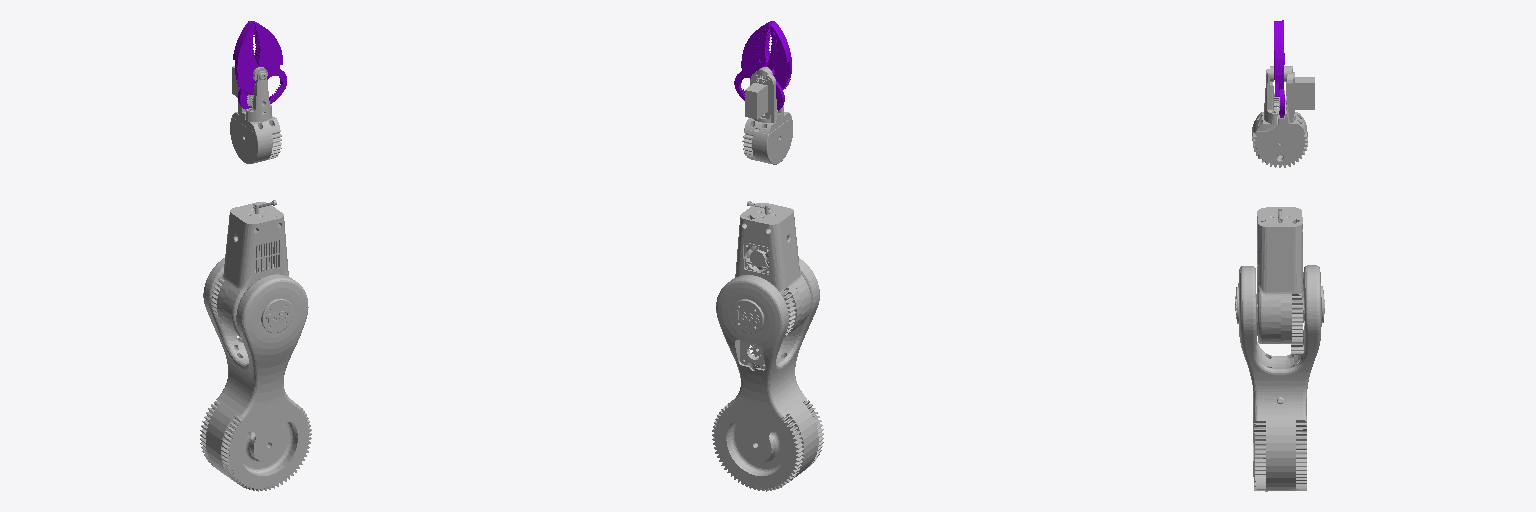
URDF robot description (arm10):
<?xml version="1.0" encoding="utf-8"?>
<!-- This URDF was automatically created by SolidWorks to URDF Exporter! Originally created by [author] ([email redacted]) 
     Commit Version: 1.6.0-4-g7f85cfe  Build Version: 1.6.7995.38578
     For more information, please see http://wiki.ros.org/sw_urdf_exporter -->
<robot
  name="arm10">
  <link
    name="base_link">
    <inertial>
      <origin
        xyz="0.0010410740969428 0.047873093808624 0.0583869216830032"
        rpy="0 0 0" />
      <mass
        value="13.648936476189" />
      <inertia
        ixx="0.189904315418796"
        ixy="-7.17740777543954E-07"
        ixz="1.34830740942066E-05"
        iyy="0.113308535920554"
        iyz="-1.86763580376425E-07"
        izz="0.276400463492036" />
    </inertial>
    <visual>
      <origin
        xyz="0 0 0"
        rpy="0 0 0" />
      <geometry>
        <mesh
          filename="package://arm10/meshes/base_link.STL" />
      </geometry>
      <material
        name="">
        <color
          rgba="0.796078431372549 0.545098039215686 0.141176470588235 1" />
      </material>
    </visual>
    <collision>
      <origin
        xyz="0 0 0"
        rpy="0 0 0" />
      <geometry>
        <mesh
          filename="package://arm10/meshes/base_link.STL" />
      </geometry>
    </collision>
  </link>
  <link
    name="link1">
    <inertial>
      <origin
        xyz="-9.48801988664861E-05 0.00174323840049078 0.0640163592957655"
        rpy="0 0 0" />
      <mass
        value="1.44142040968892" />
      <inertia
        ixx="0.00544796973774704"
        ixy="1.8958645827266E-05"
        ixz="8.81606807731752E-07"
        iyy="0.00440426088676397"
        iyz="-4.52893165804554E-05"
        izz="0.00454472118382818" />
    </inertial>
    <visual>
      <origin
        xyz="0 0 0"
        rpy="0 0 0" />
      <geometry>
        <mesh
          filename="package://arm10/meshes/link1.STL" />
      </geometry>
      <material
        name="">
        <color
          rgba="0.752941176470588 0.752941176470588 0.752941176470588 1" />
      </material>
    </visual>
    <collision>
      <origin
        xyz="0 0 0"
        rpy="0 0 0" />
      <geometry>
        <mesh
          filename="package://arm10/meshes/link1.STL" />
      </geometry>
    </collision>
  </link>
  <joint
    name="joint1"
    type="revolute">
    <origin
      xyz="0.00015179 -0.00010538 0.1895"
      rpy="0 0 0" />
    <parent
      link="base_link" />
    <child
      link="link1" />
    <axis
      xyz="0 0 -1" />
    <limit
      lower="-1"
      upper="1"
      effort="5"
      velocity="1" />
  </joint>
  <link
    name="link2">
    <inertial>
      <origin
        xyz="-1.22422327482798E-05 0.0042974913018709 0.0691473938022745"
        rpy="0 0 0" />
      <mass
        value="1.50425655992578" />
      <inertia
        ixx="0.00384664838256961"
        ixy="-2.91832853124467E-09"
        ixz="-1.17601438592977E-06"
        iyy="0.00426846162818691"
        iyz="-2.07096104581263E-06"
        izz="0.00219011235586005" />
    </inertial>
    <visual>
      <origin
        xyz="0 0 0"
        rpy="0 0 0" />
      <geometry>
        <mesh
          filename="package://arm10/meshes/link2.STL" />
      </geometry>
      <material
        name="">
        <color
          rgba="0.752941176470588 0.752941176470588 0.752941176470588 1" />
      </material>
    </visual>
    <collision>
      <origin
        xyz="0 0 0"
        rpy="0 0 0" />
      <geometry>
        <mesh
          filename="package://arm10/meshes/link2.STL" />
      </geometry>
    </collision>
  </link>
  <joint
    name="join2"
    type="revolute">
    <origin
      xyz="-4.9165E-05 0.00025905 0.116"
      rpy="0 0 0.018039" />
    <parent
      link="link1" />
    <child
      link="link2" />
    <axis
      xyz="0 -1 0" />
    <limit
      lower="-1"
      upper="1"
      effort="5"
      velocity="1" />
  </joint>
  <link
    name="link3">
    <inertial>
      <origin
        xyz="0 0 0"
        rpy="0 -0.05 0" />
      <mass
        value="0.690312159440399" />
      <inertia
        ixx="0.00154759615600884"
        ixy="-1.12723851590301E-07"
        ixz="-1.39477267109462E-06"
        iyy="0.00190881107862357"
        iyz="-8.23275525302682E-07"
        izz="0.000452790286617929" />
    </inertial>
    <visual>
      <origin
        xyz="0 0 0"
        rpy="0 -0.05 0" />
      <geometry>
        <mesh
          filename="package://arm10/meshes/link3.STL" />
      </geometry>
      <material
        name="">
        <color
          rgba="0.752941176470588 0.752941176470588 0.752941176470588 1" />
      </material>
    </visual>
    <collision>
      <origin
        xyz="0 0 0"
        rpy="0 -0.05 0" />
      <geometry>
        <mesh
          filename="package://arm10/meshes/link3.STL" />
      </geometry>
    </collision>
  </link>
  <joint
    name="joint3"
    type="revolute">
    <origin
      xyz="-0.00029267 0 0.2005"
      rpy="0 0 0" />
    <parent
      link="link2" />
    <child
      link="link3" />
    <axis
      xyz="0 1 0" />
    <limit
      lower="-1"
      upper="1"
      effort="5"
      velocity="1" />
  </joint>
  <link
    name="link4">
    <inertial>
      <origin
        xyz="-0.000365964449833965 0.003 0.0644817998768965"
        rpy="0 0 0" />
      <mass
        value="0.398620996644974" />
      <inertia
        ixx="0.000611487037024775"
        ixy="1.13371575315977E-06"
        ixz="-9.70446110448136E-06"
        iyy="0.000603199358184201"
        iyz="7.75898422831177E-06"
        izz="0.000253472644368682" />
    </inertial>
    <visual>
      <origin
        xyz="0 0 0"
        rpy="0 0 0" />
      <geometry>
        <mesh
          filename="package://arm10/meshes/link4.STL" />
      </geometry>
      <material
        name="">
        <color
          rgba="0.752941176470588 0.752941176470588 0.752941176470588 1" />
      </material>
    </visual>
    <collision>
      <origin
        xyz="0 0 0"
        rpy="0 0 0" />
      <geometry>
        <mesh
          filename="package://arm10/meshes/link4.STL" />
      </geometry>
    </collision>
  </link>
  <joint
    name="joint4"
    type="revolute">
    <origin
      xyz="0.00018976 0 0.13"
      rpy="0 0.0014597 0" />
    <parent
      link="link3" />
    <child
      link="link4" />
    <axis
      xyz="0 0 -1" />
    <limit
      lower="-1"
      upper="1"
      effort="5"
      velocity="1" />
  </joint>
  <link
    name="link5">
    <inertial>
      <origin
        xyz="-0.00452336327445455 0.00561664330549659 0.023139094316319"
        rpy="0 0 0" />
      <mass
        value="0.105972219474045" />
      <inertia
        ixx="5.64870704906335E-05"
        ixy="3.26912694544975E-10"
        ixz="-5.2394489302493E-07"
        iyy="3.74991044238545E-05"
        iyz="2.58630153614593E-07"
        izz="4.45104974515483E-05" />
    </inertial>
    <visual>
      <origin
        xyz="0 0 0"
        rpy="0 0 0" />
      <geometry>
        <mesh
          filename="package://arm10/meshes/link5.STL" />
      </geometry>
      <material
        name="">
        <color
          rgba="0.752941176470588 0.752941176470588 0.752941176470588 1" />
      </material>
    </visual>
    <collision>
      <origin
        xyz="0 0 0"
        rpy="0 0 0" />
      <geometry>
        <mesh
          filename="package://arm10/meshes/link5.STL" />
      </geometry>
    </collision>
  </link>
  <joint
    name="joint5"
    type="revolute">
    <origin
      xyz="0.003874 0 0.117"
      rpy="0 0 0.00064162" />
    <parent
      link="link4" />
    <child
      link="link5" />
    <axis
      xyz="1 0 0" />
    <limit
      lower="-1"
      upper="1"
      effort="5"
      velocity="1" />
  </joint>
  <link
    name="Griper_Gear_and_big_part">
    <inertial>
      <origin
        xyz="0.014665 -0.0050126 0.012789"
        rpy="0 -0.845 0" />
      <mass
        value="0.036695" />
      <inertia
        ixx="3.1223E-05"
        ixy="2.4069E-07"
        ixz="-4.8554E-06"
        iyy="3.8989E-05"
        iyz="1.2227E-06"
        izz="8.6694E-06" />
    </inertial>
    <visual>
      <origin
        xyz="0 0 0"
        rpy="0 0 0" />
      <geometry>
        <mesh
          filename="package://arm10/meshes/Griper_Gear_and_big_part.STL" />
      </geometry>
      <material
        name="">
        <color
          rgba="0.6 0.062745 0.88627 1" />
      </material>
    </visual>
    <collision>
      <origin
        xyz="0 0 0"
        rpy="0 0 0" />
      <geometry>
        <mesh
          filename="package://arm10/meshes/Griper_Gear_and_big_part.STL" />
      </geometry>
    </collision>
  </link>
  <joint
    name="big_part_Joint"
    type="revolute">
    <origin
      xyz="-0.004 0.001692 0.093501"
      rpy="0.0011346 -0.064221 -0.018319" />
    <parent
      link="link5" />
    <child
      link="Griper_Gear_and_big_part" />
    <axis
      xyz="0 1 0" />
    <limit
      lower="0"
      upper="0.3"
      effort="5"
      velocity="1" />
  </joint>
  <link
    name="Small_Part">
    <inertial>
      <origin
        xyz="0 -0.0075 0"
        rpy="0 0.1 0" />
      <mass
        value="0.0232397484853117" />
      <inertia
        ixx="9.58629933731075E-06"
        ixy="-5.25501936916929E-06"
        ixz="3.55241121204417E-07"
        iyy="5.1773768888674E-06"
        iyz="4.97959119005134E-07"
        izz="1.42099224036342E-05" />
    </inertial>
    <visual>
      <origin
        xyz="0 -0.0075 0"
        rpy="0 0.1 0" />
      <geometry>
        <mesh
          filename="package://arm10/meshes/Small_Part.STL" />
      </geometry>
      <material
        name="">
        <color
          rgba="0.6 0.0627450980392157 0.886274509803922 1" />
      </material>
    </visual>
    <collision>
      <origin
        xyz="0 -0.0075 0"
        rpy="0 0.1 0" />
      <geometry>
        <mesh
          filename="package://arm10/meshes/Small_Part.STL" />
      </geometry>
    </collision>
  </link>
  <joint
    name="Small_Part_joint"
    type="revolute">
    <origin
      xyz="0 0 0"
      rpy="0 0 0" />
    <parent
      link="Griper_Gear_and_big_part" />
    <child
      link="Small_Part" />
    <axis
      xyz="0 -1 0" />
    <limit
      lower="-0.3"
      upper="0.3"
      effort="5"
      velocity="1" />
    <mimic
      joint="big_part_Joint"
      multiplier="2.0001"
       />
  </joint>
</robot>

--- What the picture shows (computed from the rendered views, not written in the file) ---
Views: 3 orthographic renders of the robot side by side, from view 1: azimuth 30°, elevation 25°; view 2: azimuth 150°, elevation 25°; view 3: azimuth 270°, elevation 25°.
Robot: arm10 — 8 links, 7 joints (7 revolute); root link base_link; default pose: all joints at 0.
Links seen in each view (by area): view 1: link2, link3, link5, Griper_Gear_and_big_part, Small_Part; view 2: link2, link3, link5, Griper_Gear_and_big_part, Small_Part; view 3: link2, link3, link5, Griper_Gear_and_big_part.
Link boxes in pixels (left/top/right/bottom): link2: left=200, top=258, right=311, bottom=491; link3: left=211, top=200, right=288, bottom=337; link5: left=230, top=66, right=281, bottom=163; Griper_Gear_and_big_part: left=238, top=21, right=286, bottom=109; Small_Part: left=233, top=21, right=261, bottom=94; link2: left=712, top=258, right=823, bottom=491; link3: left=735, top=201, right=811, bottom=337; link5: left=742, top=67, right=792, bottom=164; Griper_Gear_and_big_part: left=734, top=21, right=784, bottom=110; Small_Part: left=767, top=21, right=791, bottom=89; link2: left=1235, top=265, right=1324, bottom=491; link3: left=1257, top=207, right=1302, bottom=343; link5: left=1252, top=66, right=1314, bottom=167; Griper_Gear_and_big_part: left=1274, top=21, right=1284, bottom=117.
Bounding box of the posed robot: 0.1352 × 0.1196 × 0.683 m (x, y, z).
5 mesh visuals loaded from 8 distinct referenced files (5 binary STL); not drawn: 3 (reference not matched to a file when rendering).